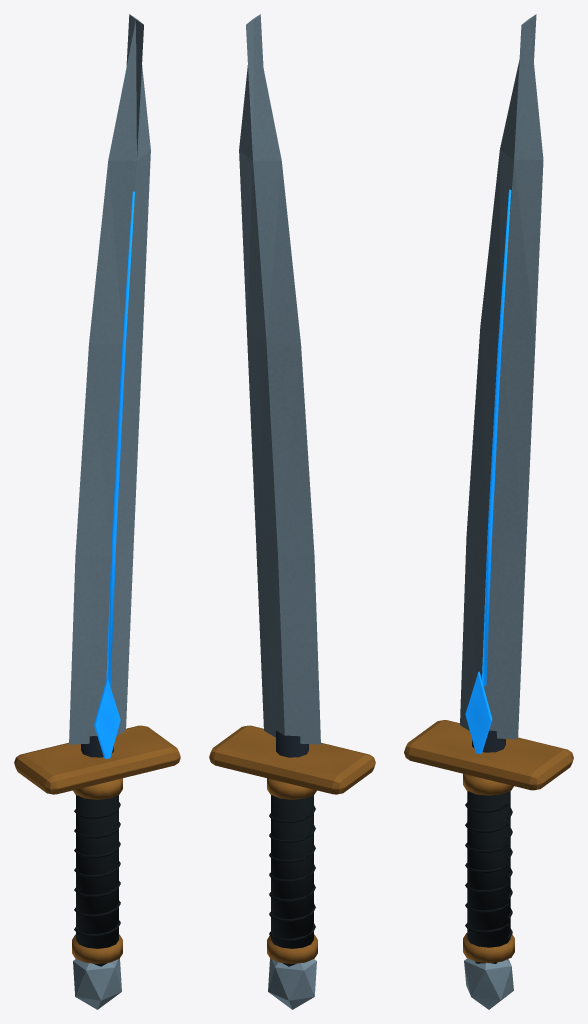
Rendered from Blade_Katana.fbx.
The picture shows the model from 3 angles, left to right: view 1: azimuth 30°, elevation 25°; view 2: azimuth 150°, elevation 25°; view 3: azimuth 330°, elevation 25°; orthographic projection.
Parts seen in each view (by area): view 1: Blade_Katana_Steel, Blade_Katana_Gold, Blade_Katana_Leather, Blade_Katana_Azure; view 2: Blade_Katana_Steel, Blade_Katana_Gold, Blade_Katana_Leather, Blade_Katana_DarkSteel; view 3: Blade_Katana_Steel, Blade_Katana_Gold, Blade_Katana_Leather, Blade_Katana_Azure, Blade_Katana_DarkSteel.
Boxes of the visible parts, box(x1,y1,x2,y2) form: Blade_Katana_Steel: box(69, 14, 150, 1009); Blade_Katana_Gold: box(14, 725, 180, 963); Blade_Katana_Leather: box(74, 795, 120, 948); Blade_Katana_Azure: box(94, 191, 134, 758); Blade_Katana_Steel: box(239, 14, 320, 1009); Blade_Katana_Gold: box(209, 725, 375, 963); Blade_Katana_Leather: box(269, 795, 315, 948); Blade_Katana_DarkSteel: box(276, 730, 308, 966); Blade_Katana_Steel: box(460, 14, 543, 1009); Blade_Katana_Gold: box(404, 720, 573, 962); Blade_Katana_Leather: box(465, 791, 512, 947); Blade_Katana_Azure: box(465, 189, 511, 753); Blade_Katana_DarkSteel: box(472, 730, 505, 963).
Bounding box in the file's own units: 0.19 × 1.31 × 0.095.
